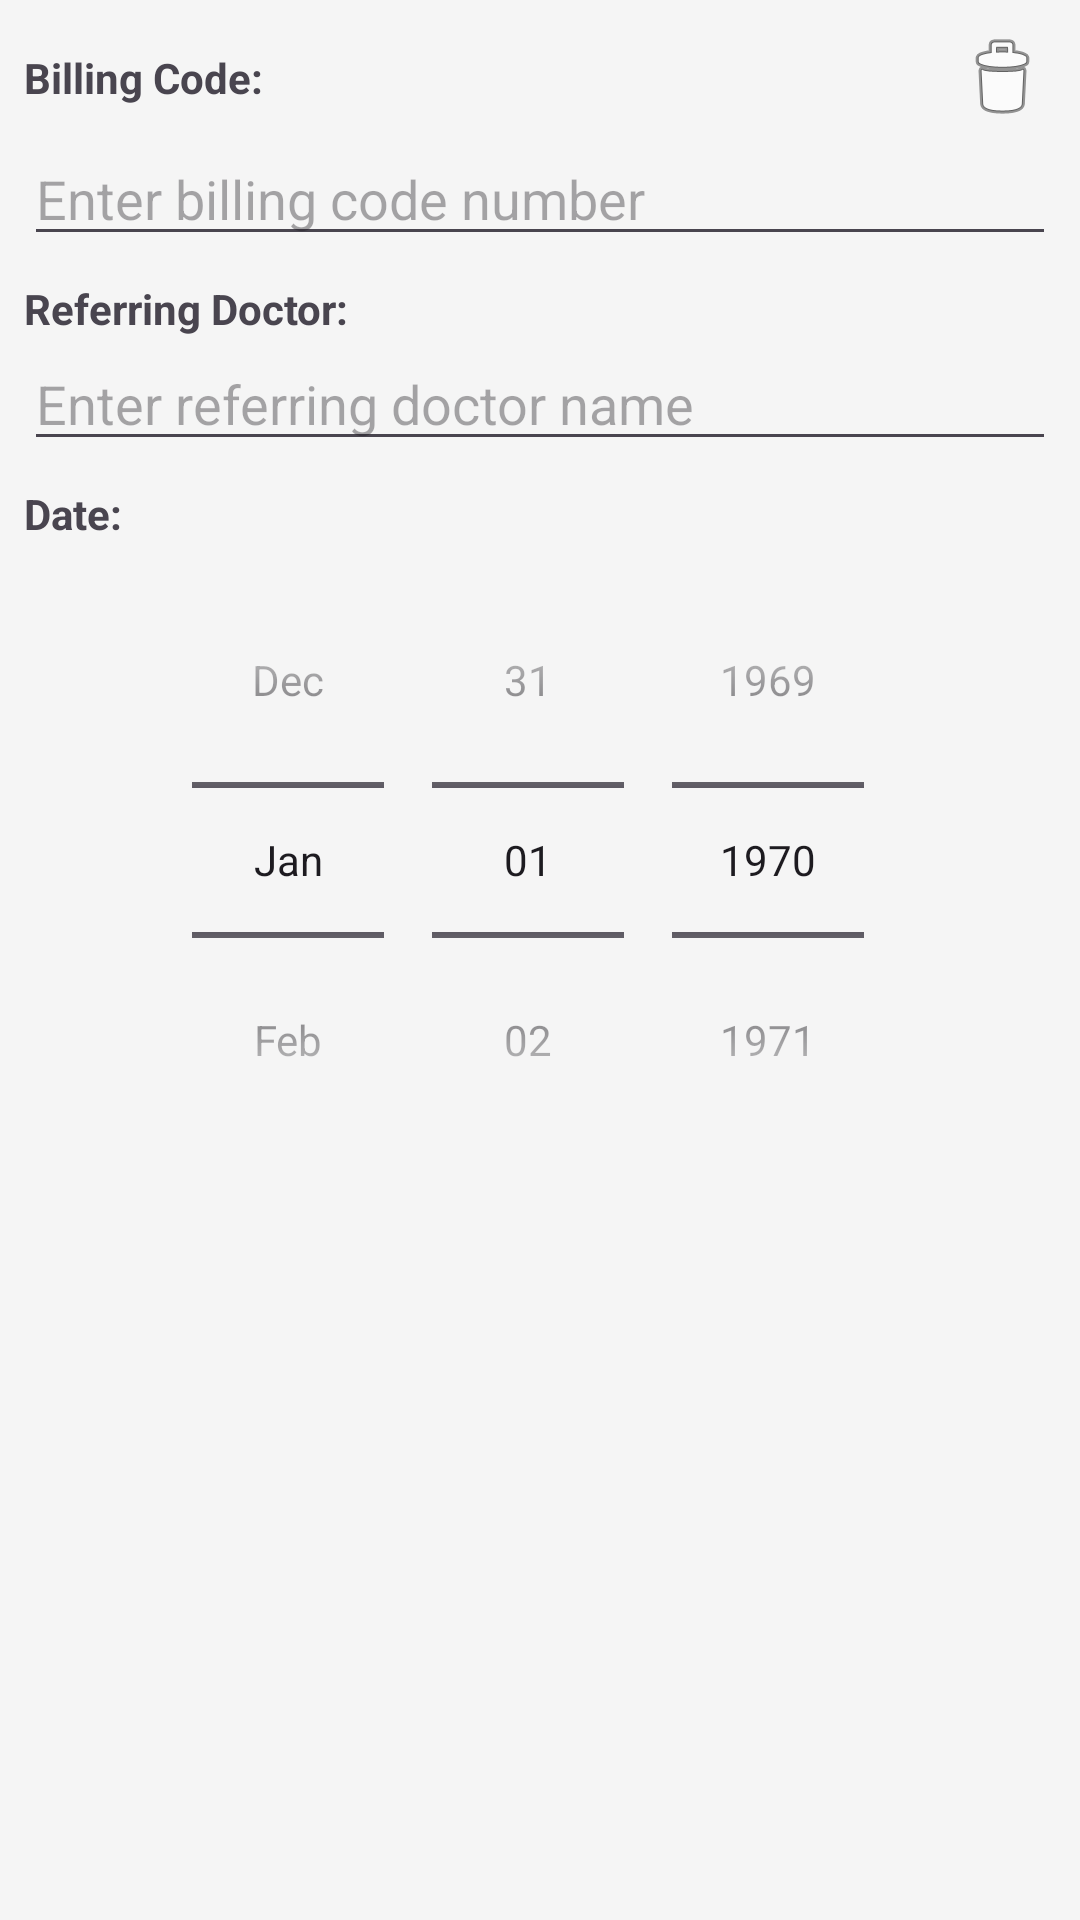

Point at icon controls on the screen. Image size 1080px×1920px, points as (x,y).
Delete billing code: (1002,76)
